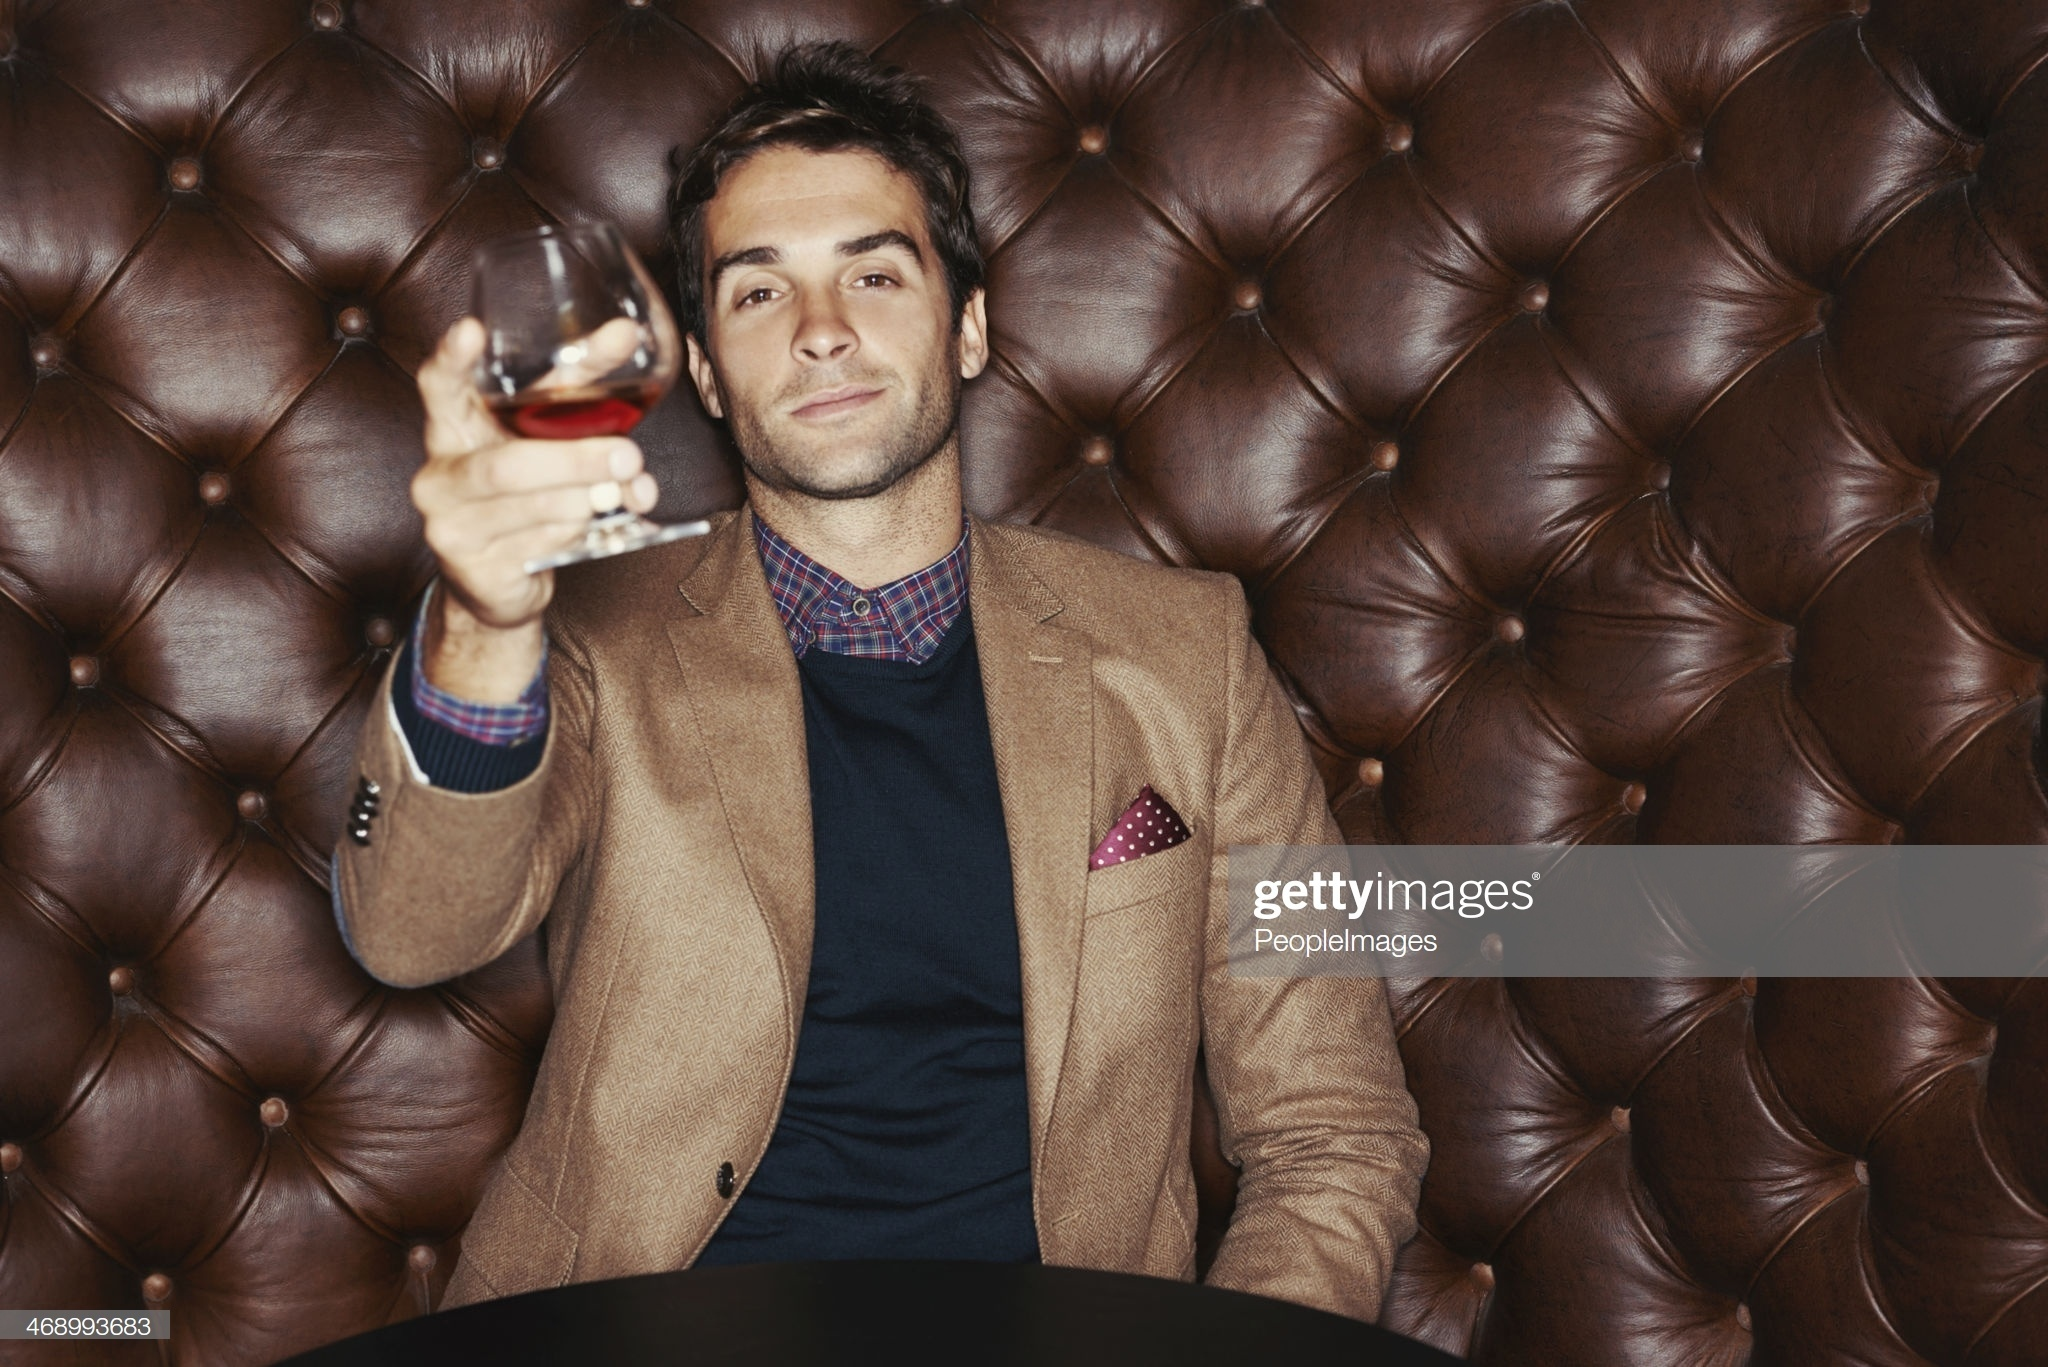whiskey: (457, 230, 695, 574)
